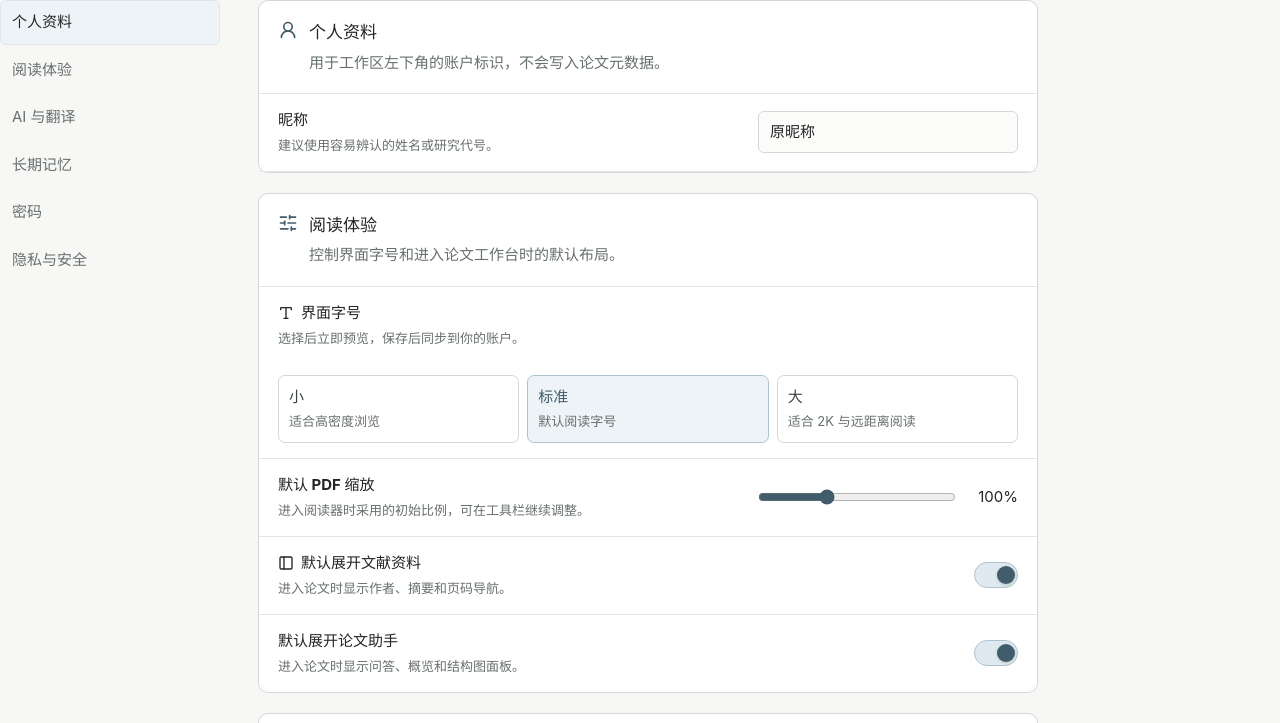
Test: SettingsView 真实偏好 › 读取、编辑并持久化全部个人偏好
The image size is (1280, 723).
Replace the text in the field showing "原昵称" with "新昵称" at point(888, 132), box [758, 111, 1018, 153]
Click the radio button named "大适合 2K" at point(897, 408), box [777, 374, 1018, 442]
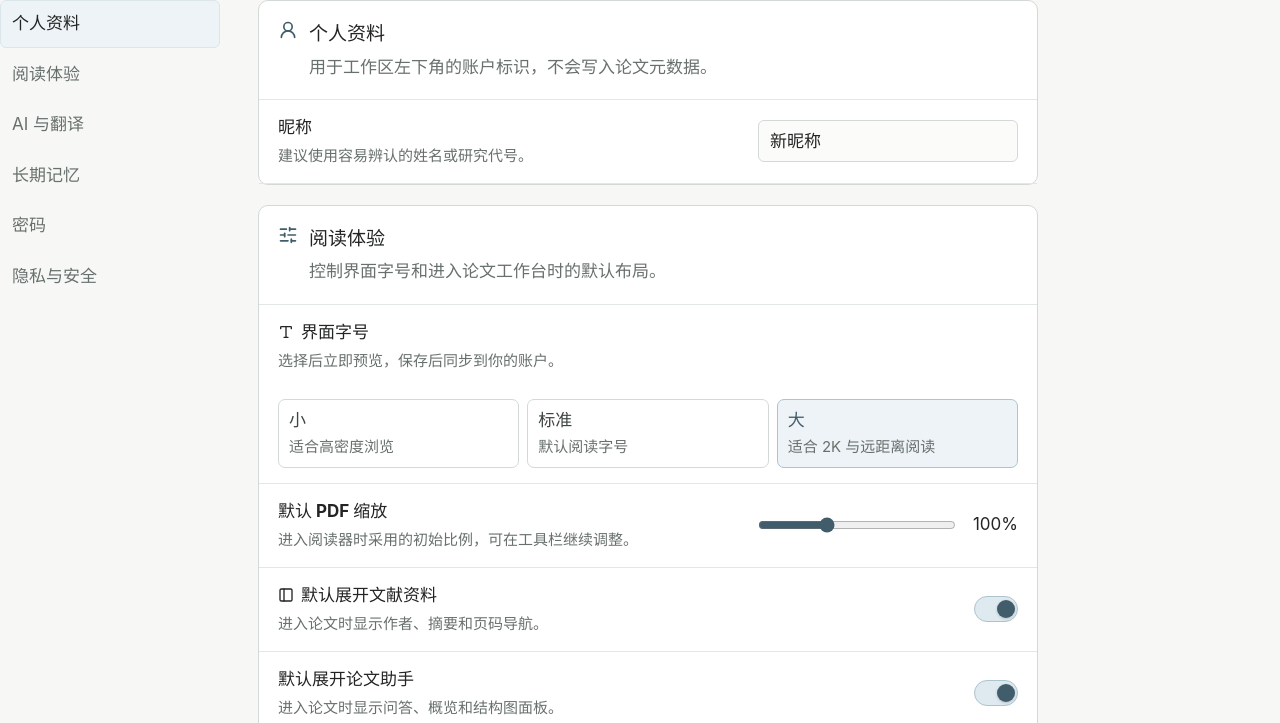
Set the slider labelled "默认 PDF 缩放 进入阅读器时采用的初始比例，可在工具栏继续调整。" to "130" at point(863, 525), box [758, 517, 956, 533]
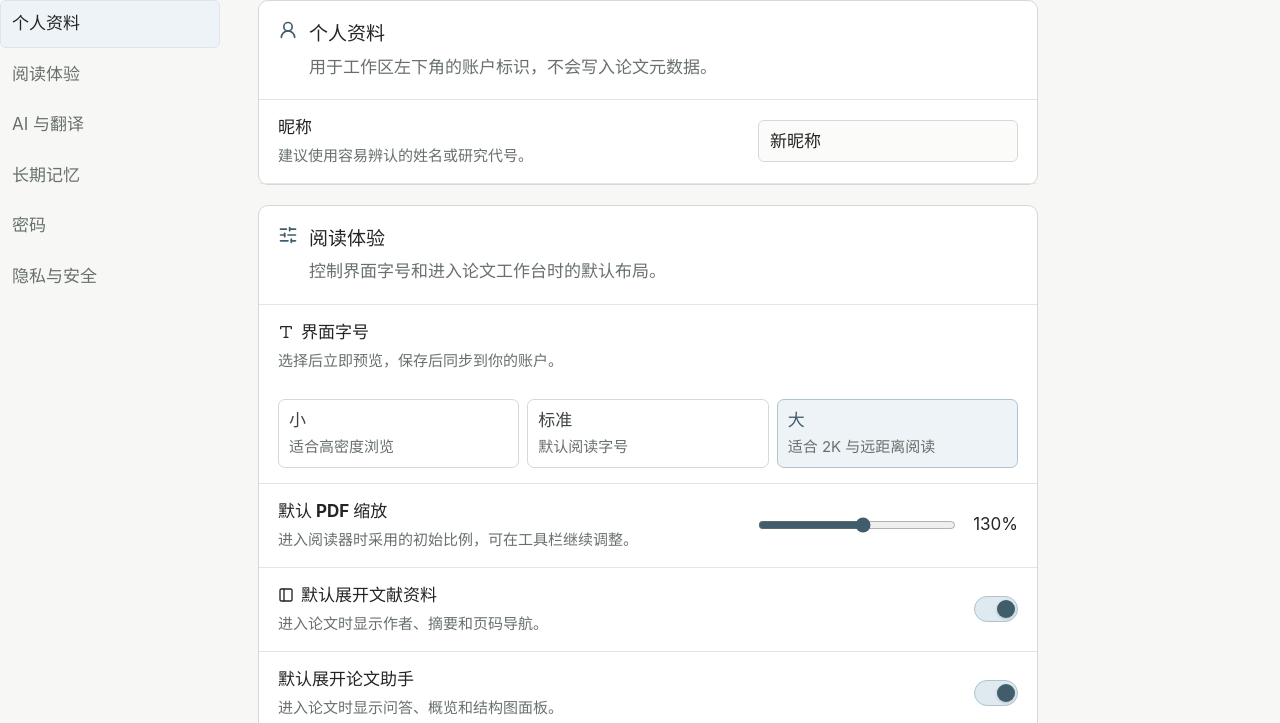
Click the switch named "默认展开文献资料" at point(996, 609), box [974, 587, 1018, 631]
(page scrolled)
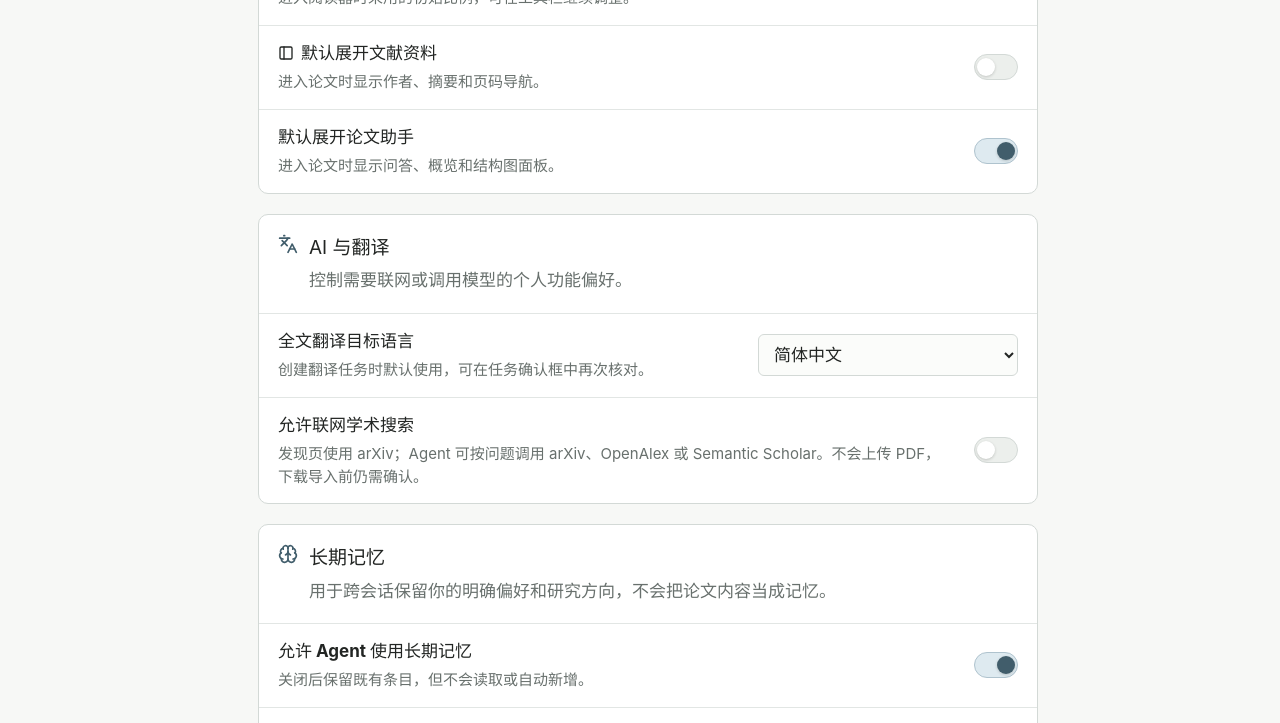
Click the switch named "允许联网学术搜索" at point(996, 450), box [974, 428, 1018, 472]
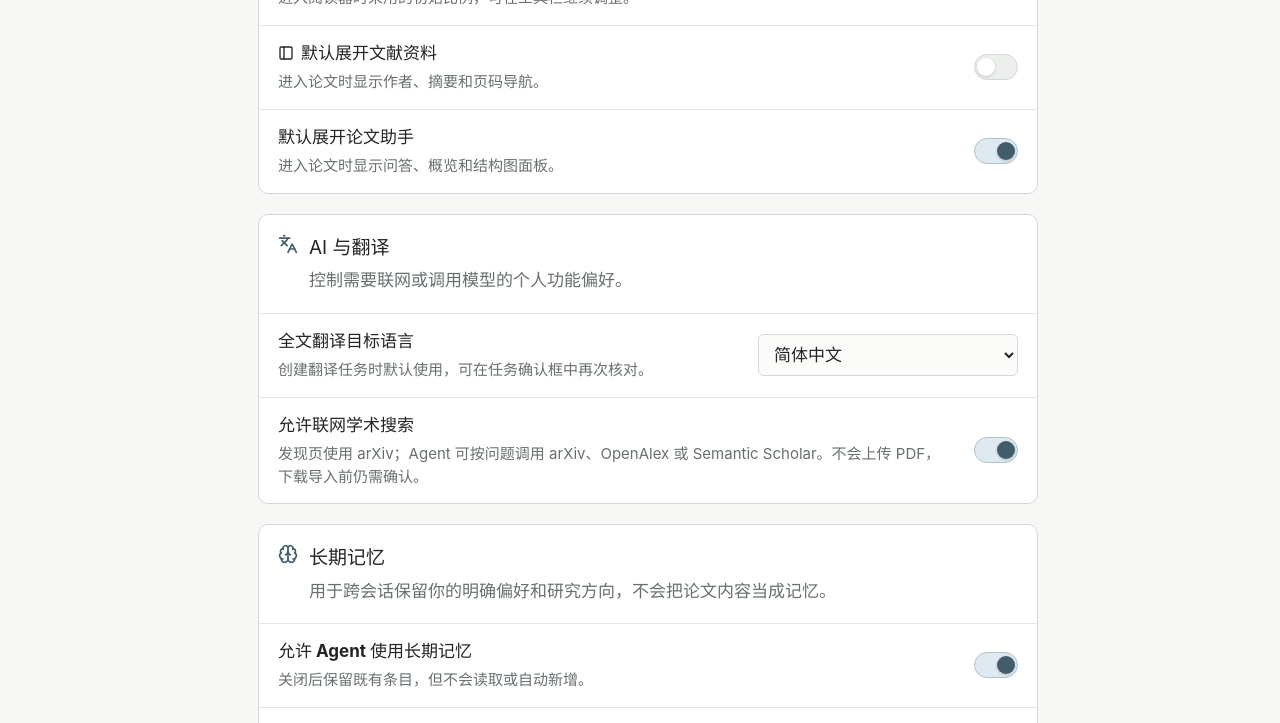
Select "日语" in the dropdown labelled "全文翻译目标语言 创建翻译任务时默认使用，可在任务确认框中再次核对。" at point(888, 355), box [758, 334, 1018, 376]
(page scrolled)
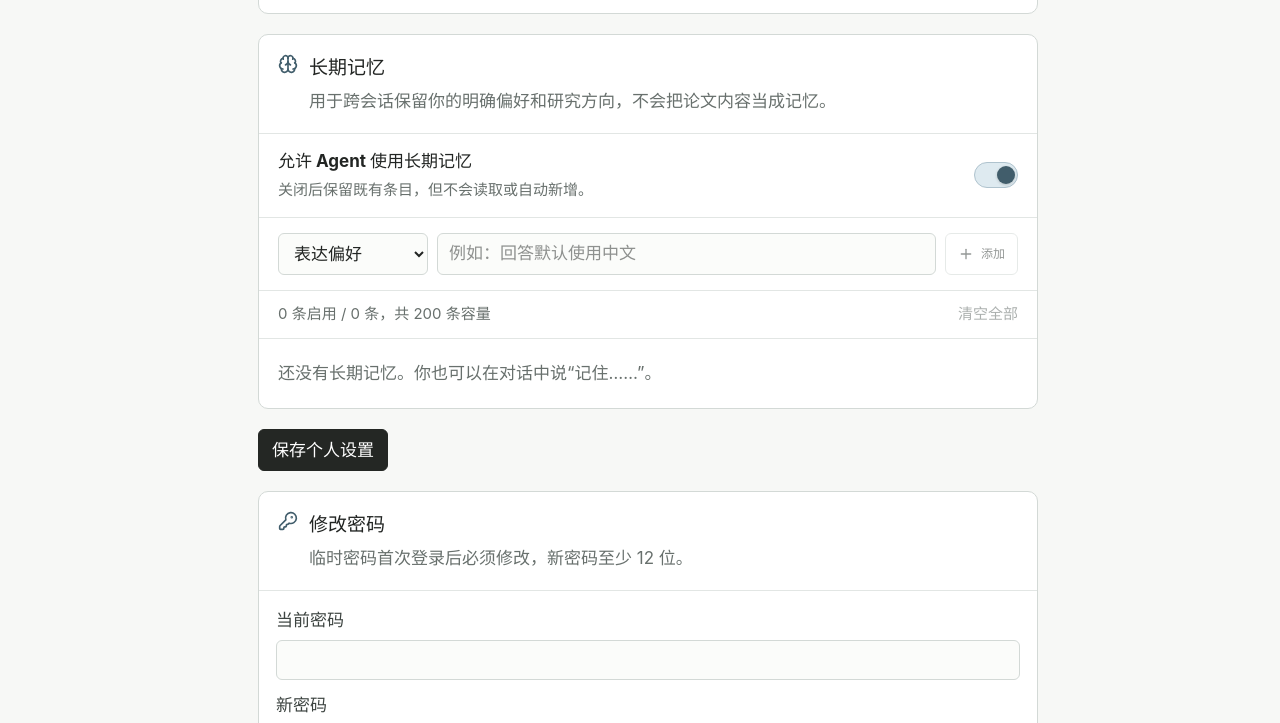
Click the button "保存个人设置" at point(323, 450), box [258, 429, 388, 471]
(page scrolled)
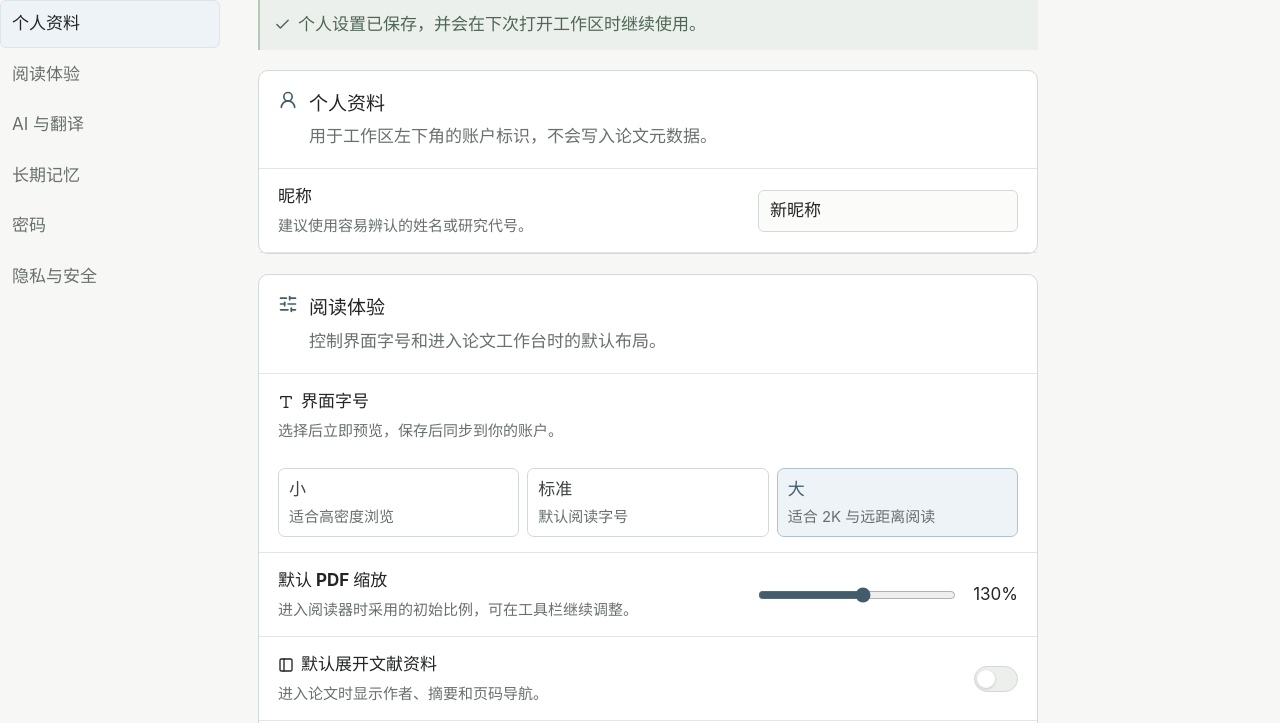
Expected: the text "个人设置已保存，并会在下次打开工作区时继续使用。" is shown, [258, 0, 1038, 50]
